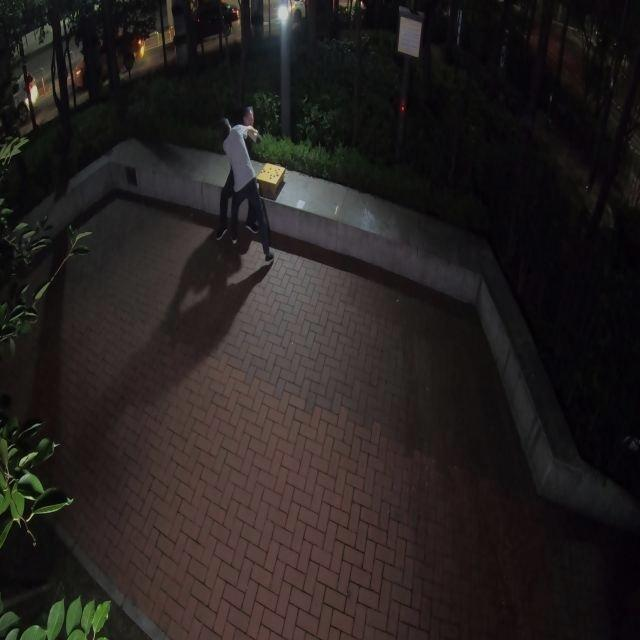fight: (211, 107, 275, 265)
